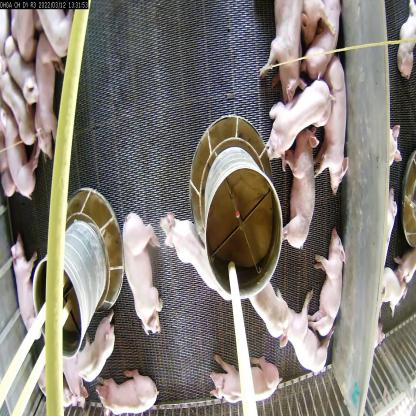Pig: (158, 202, 237, 306), (118, 202, 171, 333), (266, 71, 333, 147), (208, 348, 287, 409), (321, 55, 355, 195), (34, 25, 64, 163), (289, 129, 321, 258), (2, 53, 40, 158), (2, 99, 42, 197), (94, 362, 164, 416), (9, 232, 42, 343), (315, 210, 342, 343), (279, 0, 308, 104)
